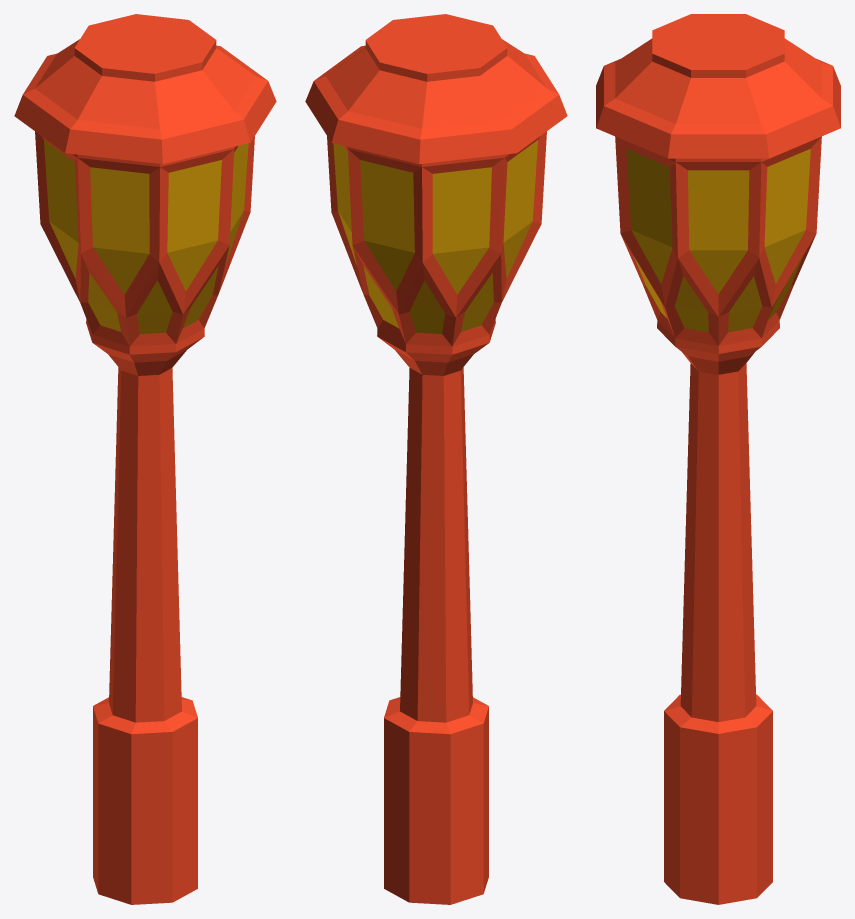
The model's file is SM_Lamp_Sidewalk_I_City.fbx.
The picture shows the model from 3 angles, left to right: view 1: azimuth 30°, elevation 25°; view 2: azimuth 150°, elevation 25°; view 3: azimuth 270°, elevation 25°; orthographic projection.
Visible parts, largest first — view 1: SM_Lamp_Sidewalk_I_City; view 2: SM_Lamp_Sidewalk_I_City; view 3: SM_Lamp_Sidewalk_I_City.
Boxes of the visible parts, x1,y1,x2,y2 form: SM_Lamp_Sidewalk_I_City: (14, 14, 276, 904); SM_Lamp_Sidewalk_I_City: (305, 14, 567, 904); SM_Lamp_Sidewalk_I_City: (596, 14, 840, 904).
Size of the model in its own units: 0.2924 by 1.11 by 0.2924.
